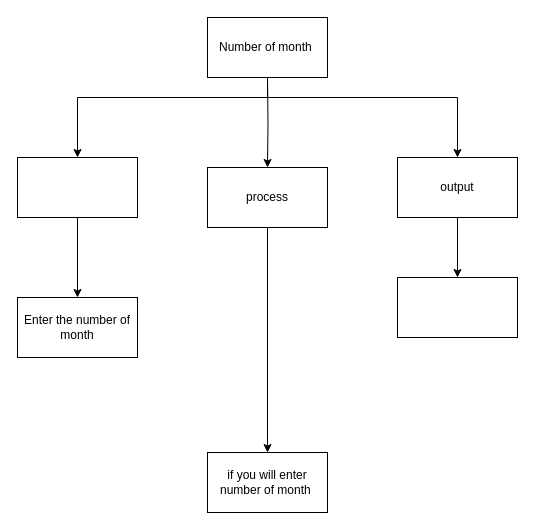
Some shapes in this 535 by 530 pixel diagram are drawn without their labels. Each missing label, with the centre of its shape:
input: the point at 77,187
then you will get month of your number: the point at 457,307
